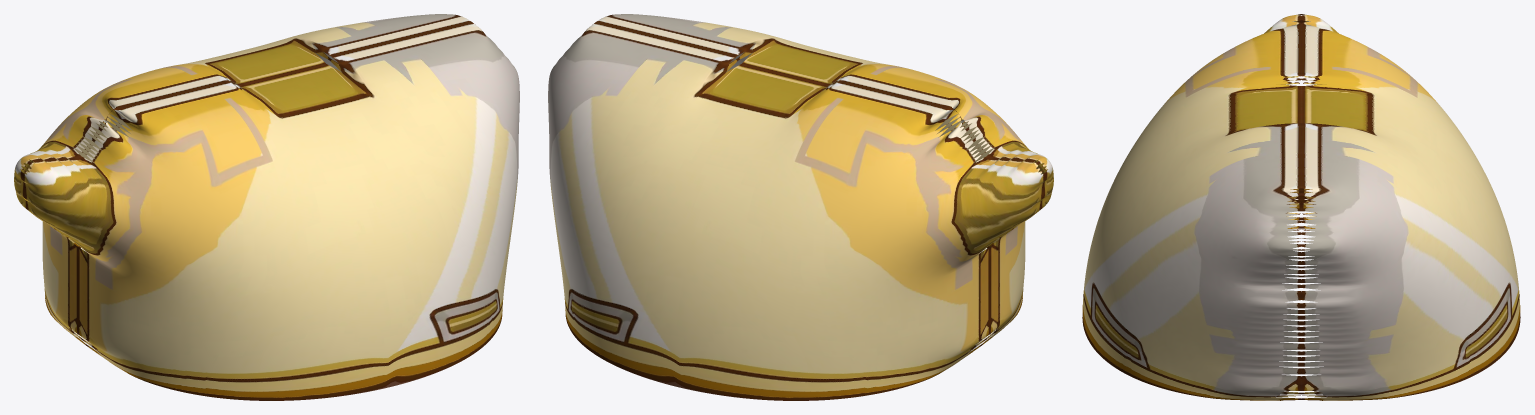
File: east_building.glb
3 views of the same model, side by side, from view 1: azimuth 30°, elevation 25°; view 2: azimuth 150°, elevation 25°; view 3: azimuth 270°, elevation 25° (orthographic). The views are drawn at different scales.
Parts seen in each view (by area): view 1: east_building; view 2: east_building; view 3: east_building.
Boxes of the visible parts, bbox=[...] form: east_building: bbox=[14, 14, 519, 400]; east_building: bbox=[548, 14, 1053, 400]; east_building: bbox=[1082, 14, 1520, 400].
Bounding box in the file's own units: 0.9883 × 0.454 × 0.816.
1 material, 1 textured.
